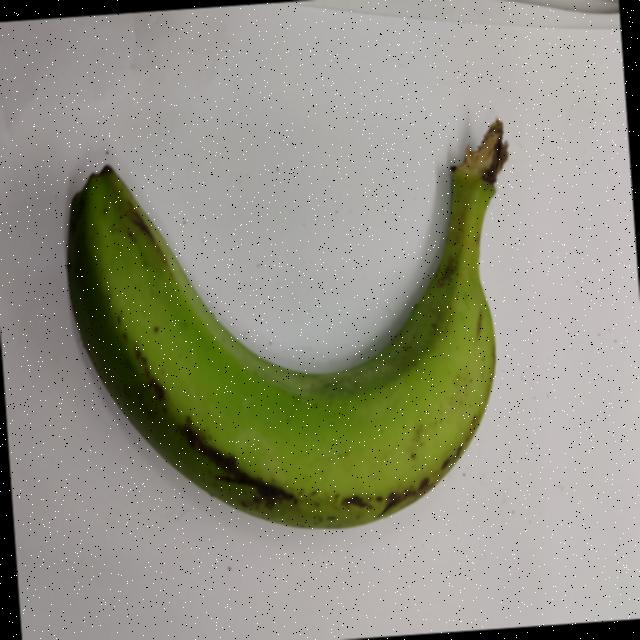Raw: (46, 90, 564, 573)
